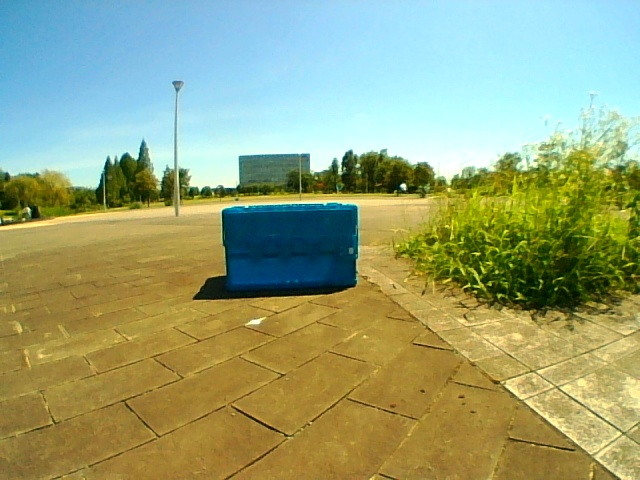blue_box: (227, 207, 357, 284)
